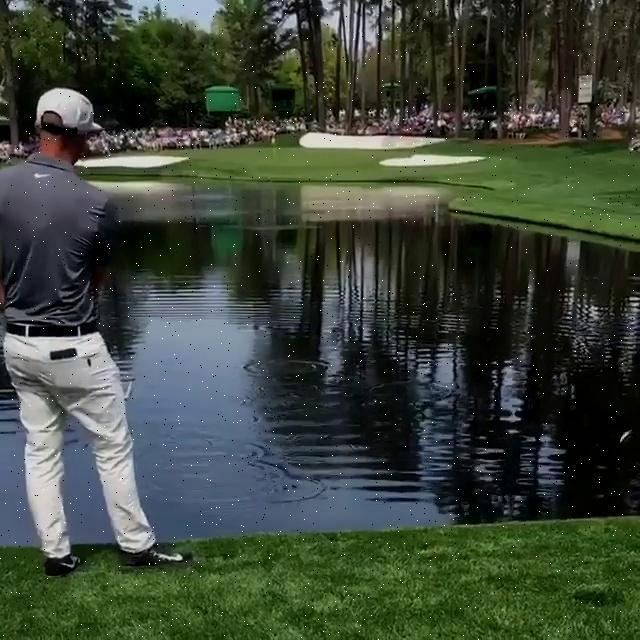GolfBall: (122, 379, 137, 403)
